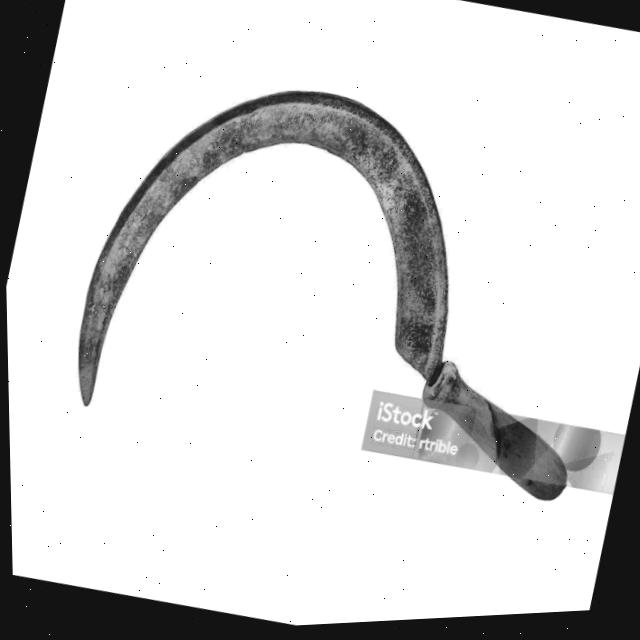celurit: (43, 62, 581, 515)
